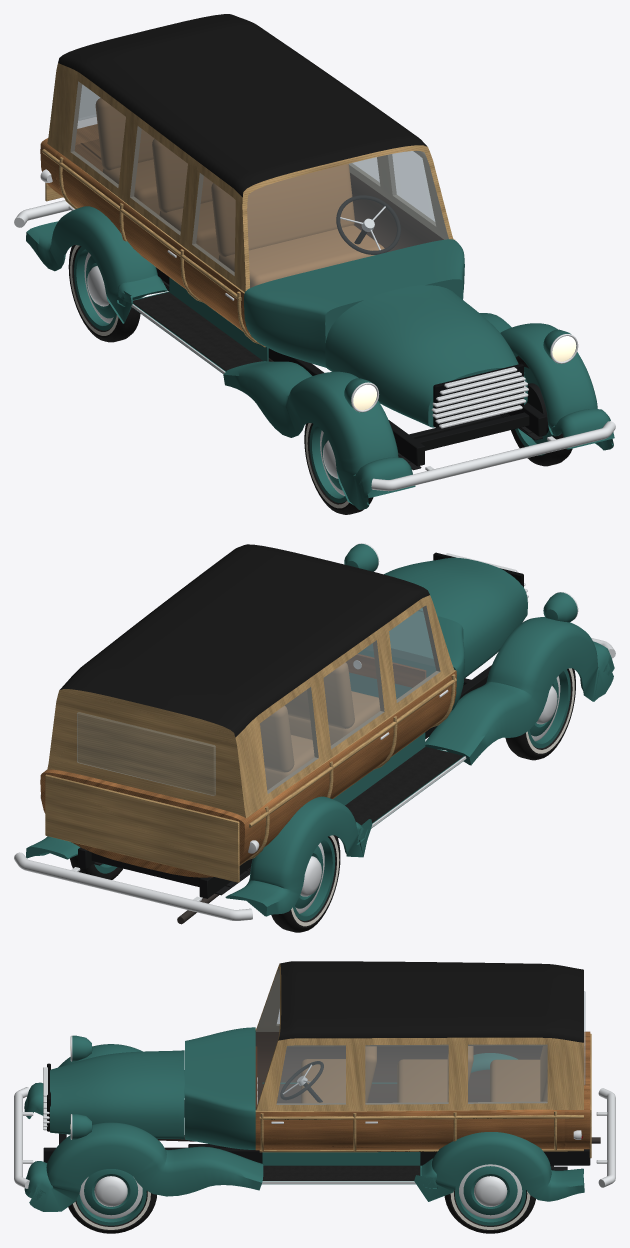
File: woodie-wagon.glb
3 views of the same model, one above another, from view 1: azimuth 30°, elevation 25°; view 2: azimuth 150°, elevation 25°; view 3: azimuth 270°, elevation 25° (orthographic). The views are drawn at different scales.
Parts seen in each view (by area): view 1: Woodie_Wagon, Wheel_RR, Wheel_FR, Wheel_FL; view 2: Woodie_Wagon, Wheel_RR, Wheel_FR, Wheel_RL; view 3: Woodie_Wagon, Wheel_RL, Wheel_FL.
Boxes of the visible parts, x1,y1,x2,y2 form: Woodie_Wagon: [14, 14, 615, 509]; Wheel_RR: [68, 245, 140, 342]; Wheel_FR: [304, 423, 373, 514]; Wheel_FL: [511, 355, 572, 466]; Woodie_Wagon: [14, 543, 615, 924]; Wheel_RR: [271, 835, 340, 932]; Wheel_FR: [505, 668, 575, 760]; Wheel_RL: [70, 855, 122, 879]; Woodie_Wagon: [14, 961, 615, 1211]; Wheel_RL: [444, 1164, 535, 1233]; Wheel_FL: [68, 1169, 156, 1233].
Bounding box in the file's own units: 1.78 × 1.72 × 4.68.
23 materials, 5 textured.
